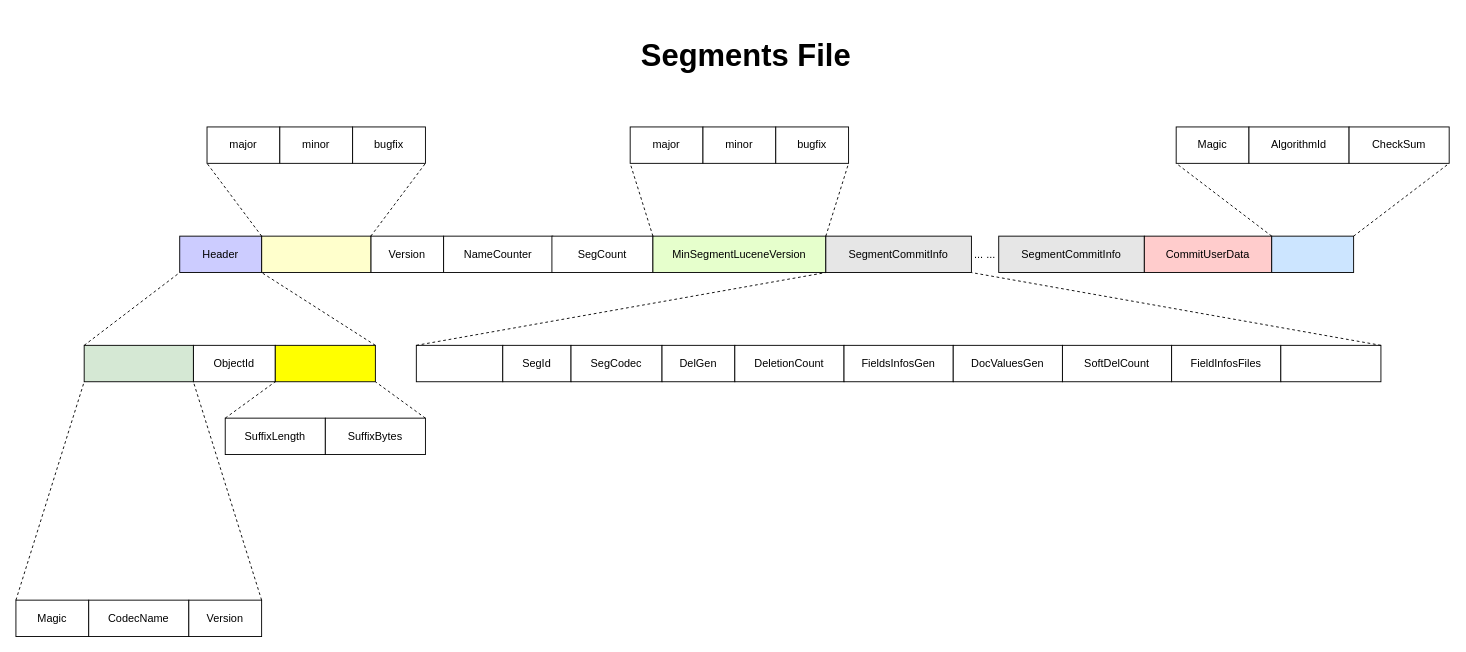
This 1466x652 diagram has some shape labels left out. The box of each missing label's shape, as (x1, y1, x2, y2) in pixels:
CodecHeader: (83, 344, 193, 382)
Footer: (1271, 235, 1354, 273)
LuceneVersion: (261, 235, 371, 273)
ObjectSuffix: (274, 344, 375, 382)
SegName: (415, 344, 503, 382)
UpdatesFiles: (1280, 344, 1381, 382)
